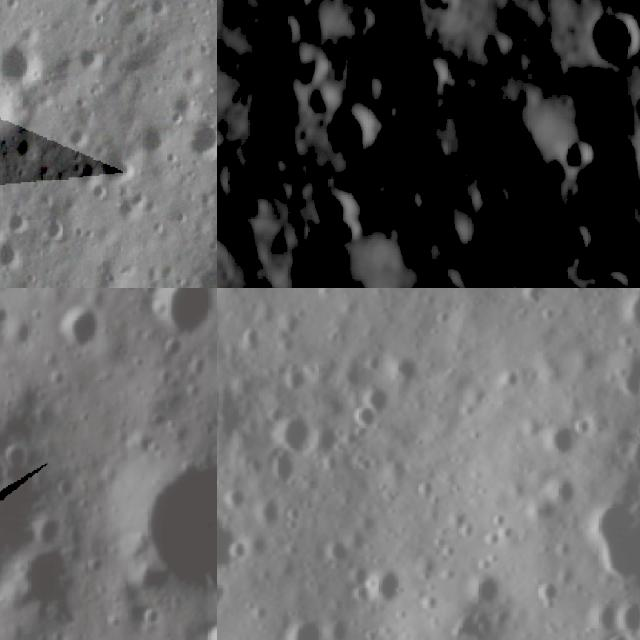crater: (110, 452, 217, 600), (0, 414, 54, 577), (3, 542, 95, 634), (317, 88, 390, 160), (42, 294, 113, 366), (573, 0, 640, 76), (304, 180, 368, 247), (133, 288, 217, 339), (401, 48, 462, 110), (268, 400, 327, 462), (300, 415, 358, 473), (217, 501, 259, 581), (458, 562, 514, 618), (578, 582, 632, 640), (378, 345, 434, 397), (367, 553, 416, 612), (407, 248, 476, 288), (254, 3, 306, 56), (536, 412, 589, 462), (605, 339, 640, 412), (276, 604, 341, 640), (0, 31, 43, 85), (217, 364, 246, 441), (358, 378, 404, 422), (262, 443, 306, 489), (530, 572, 572, 618), (92, 152, 138, 188), (550, 220, 590, 260), (344, 396, 384, 435), (182, 119, 217, 162), (612, 589, 640, 640), (75, 36, 112, 74), (514, 288, 562, 317), (134, 122, 171, 158), (224, 534, 258, 571), (1, 202, 35, 238), (35, 216, 76, 244), (620, 288, 640, 340), (406, 0, 463, 18), (623, 79, 640, 133), (591, 622, 639, 640), (506, 270, 553, 288), (0, 241, 25, 268), (278, 0, 315, 17), (605, 288, 640, 303), (76, 0, 108, 14), (241, 275, 273, 288)
